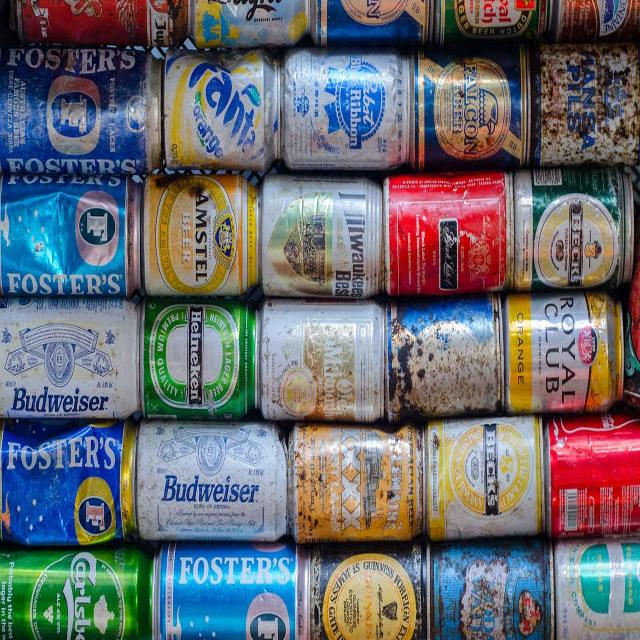Lata: (254, 169, 387, 424), (0, 41, 164, 187), (0, 170, 141, 306), (140, 427, 285, 551), (0, 421, 137, 546), (0, 300, 140, 420), (141, 166, 264, 300), (290, 425, 420, 546), (149, 544, 306, 640), (509, 292, 624, 416), (286, 48, 407, 165), (388, 176, 510, 292), (167, 53, 282, 176), (390, 295, 503, 420), (527, 48, 640, 171), (143, 302, 253, 427), (513, 171, 631, 286), (410, 48, 522, 167), (540, 414, 640, 544), (1, 554, 152, 640), (428, 538, 554, 640), (423, 427, 543, 533), (303, 556, 423, 640), (551, 542, 640, 640)
